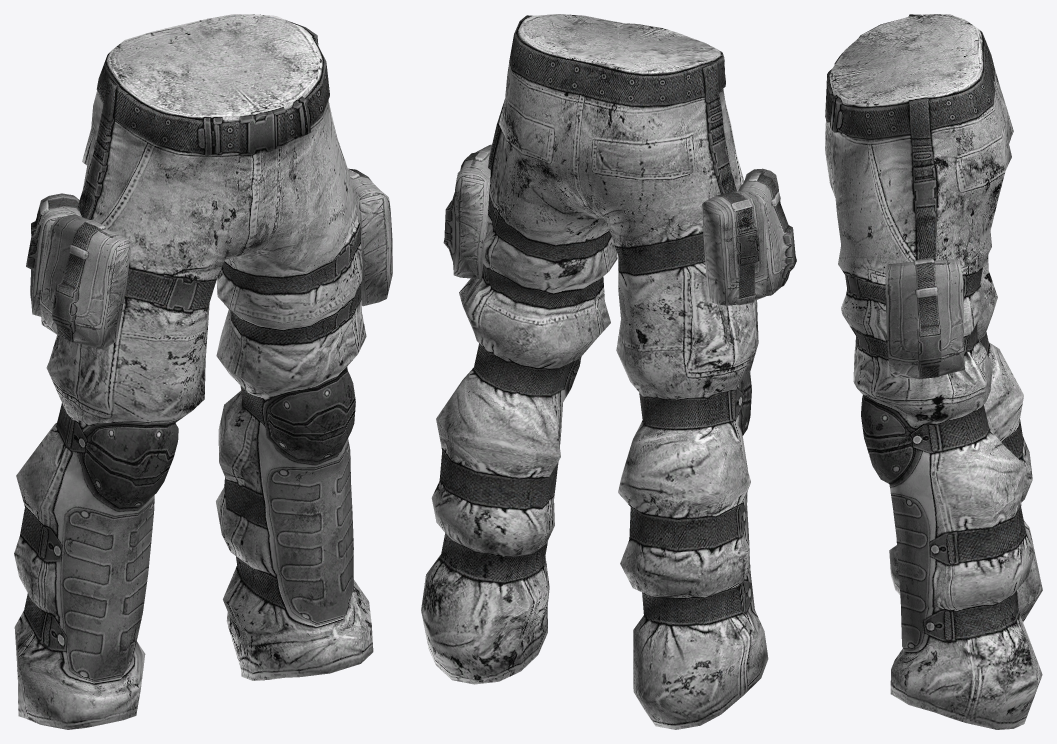
File: SurvivorMale_Legs_Pants_Paramilitary_LOD0.glb
3 renders of one model, left to right at view 1: azimuth 30°, elevation 25°; view 2: azimuth 150°, elevation 25°; view 3: azimuth 270°, elevation 25°, orthographic. The views are drawn at different scales.
Parts seen in each view (by area): view 1: Hoodie; view 2: Hoodie; view 3: Hoodie.
Part boxes in pixels (x1,y1,x2,y2): Hoodie: (14, 14, 392, 729); Hoodie: (421, 14, 796, 729); Hoodie: (825, 14, 1042, 729).
Bounding box in the file's own units: 0.5714 × 1.05 × 0.3346.
1 material, 1 textured.
